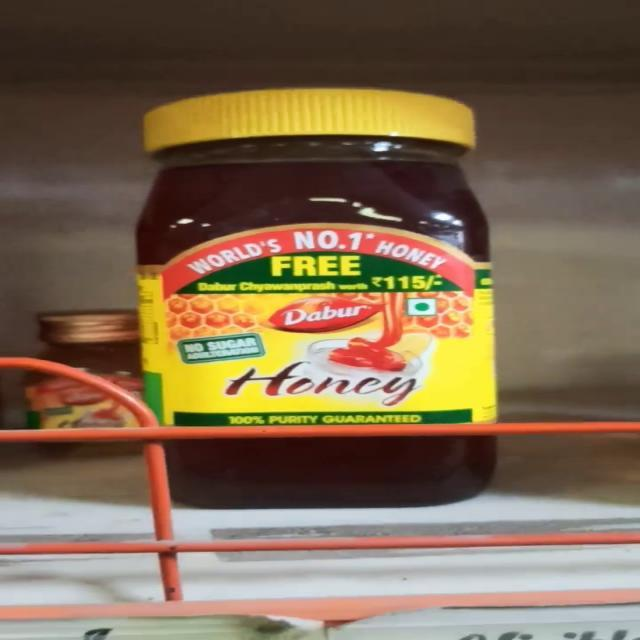Dabur Honey: (124, 90, 522, 507)
